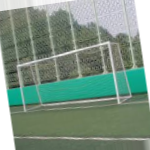goals: (15, 39, 135, 114)
